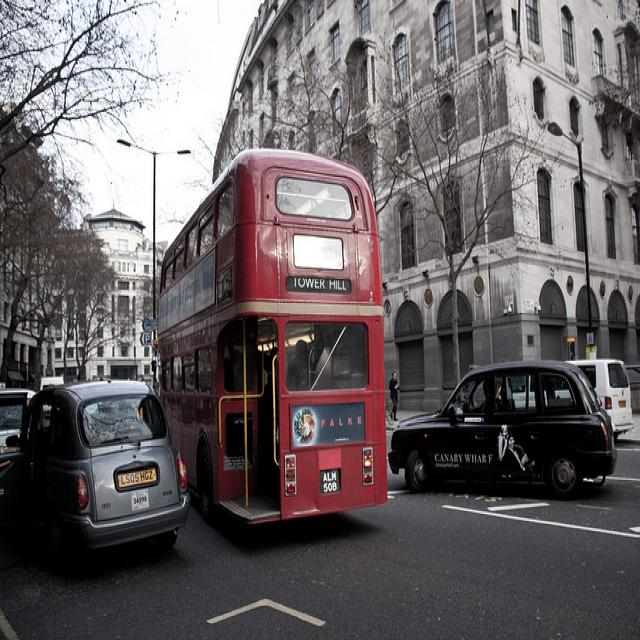Vehicle: (156, 150, 390, 525), (0, 379, 190, 552), (390, 364, 619, 501), (565, 359, 633, 441), (39, 376, 65, 392)
